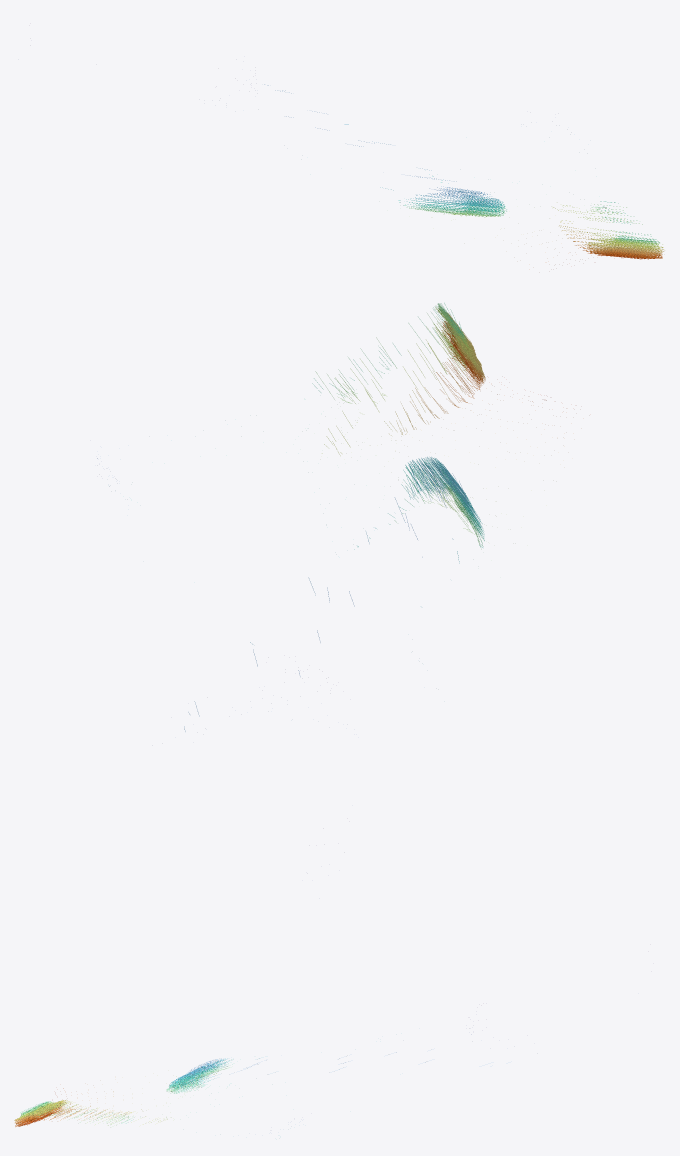
Rendered from backward.glb.
3 views of the same model, one above another, from view 1: azimuth 30°, elevation 25°; view 2: azimuth 150°, elevation 25°; view 3: azimuth 270°, elevation 25° (orthographic). The views are drawn at different scales.
Parts seen in each view (by area): view 1: flow_lines; view 2: flow_lines; view 3: flow_lines.
Boxes of the visible parts, x1,y1,x2,y2 form: flow_lines: (264,84,663,259); flow_lines: (97,303,546,731); flow_lines: (14,1034,471,1126).
Size of the model in its own units: 3.02 by 0.5502 by 5.32.
